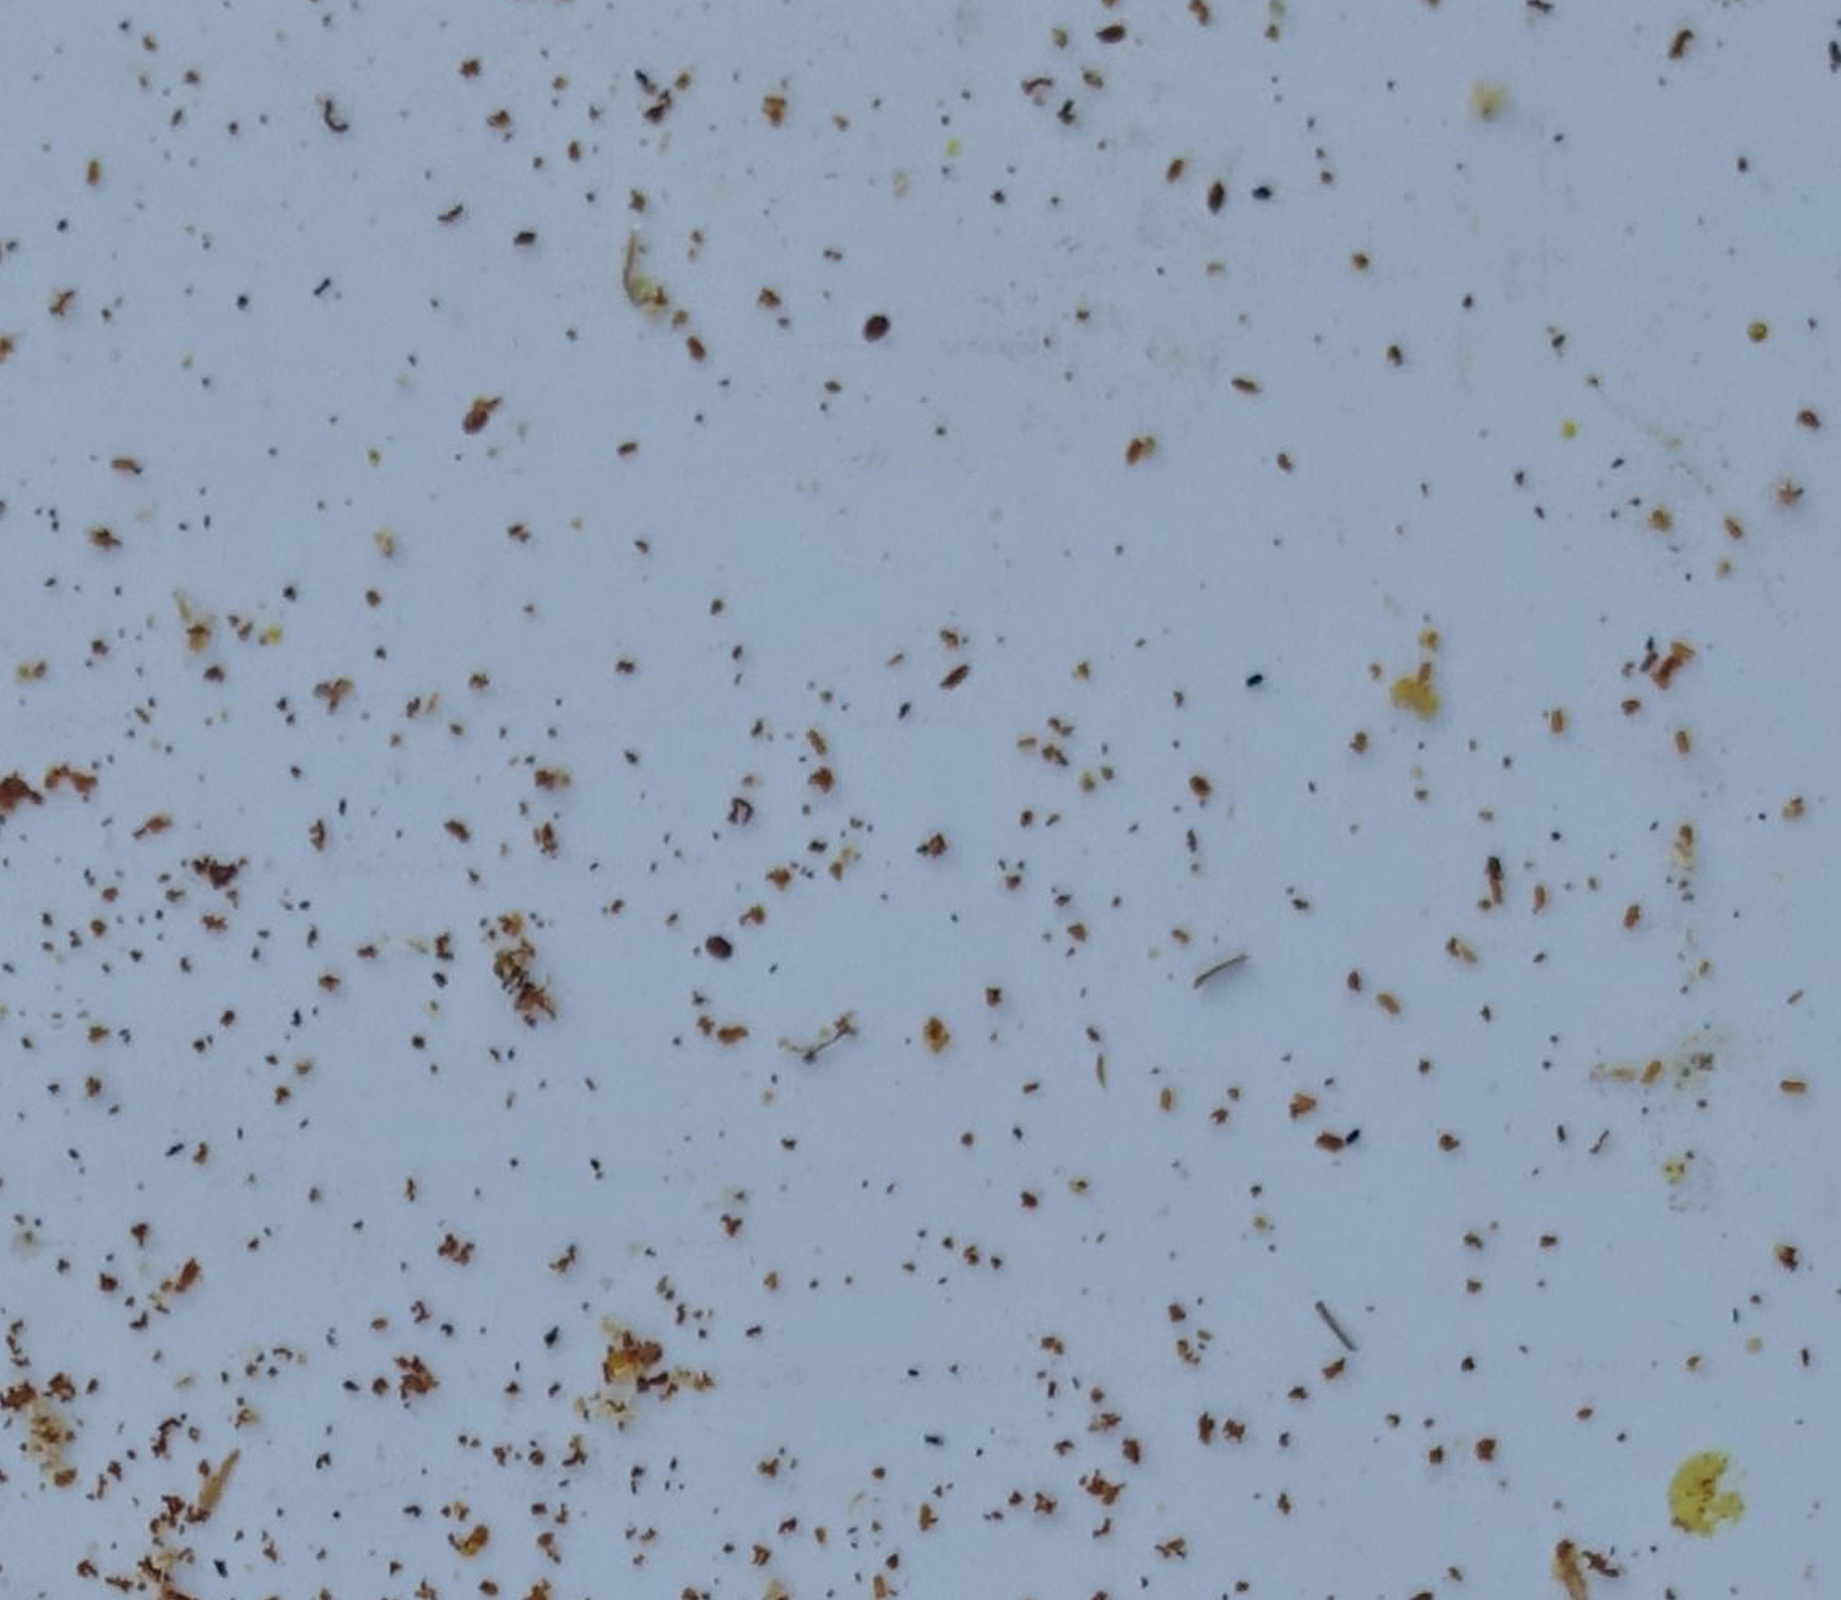Varroa: (698, 925, 744, 971), (858, 312, 892, 348)
